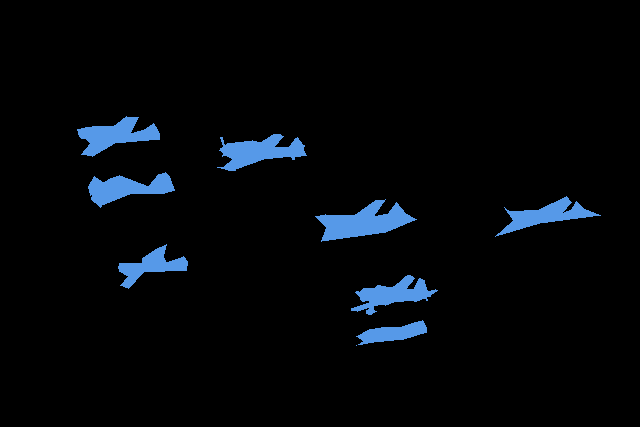Airplane: (315, 199, 417, 242), (495, 196, 601, 237), (351, 275, 438, 315), (77, 116, 160, 157), (217, 134, 306, 170), (88, 172, 175, 208), (118, 244, 188, 288), (356, 320, 427, 346)
